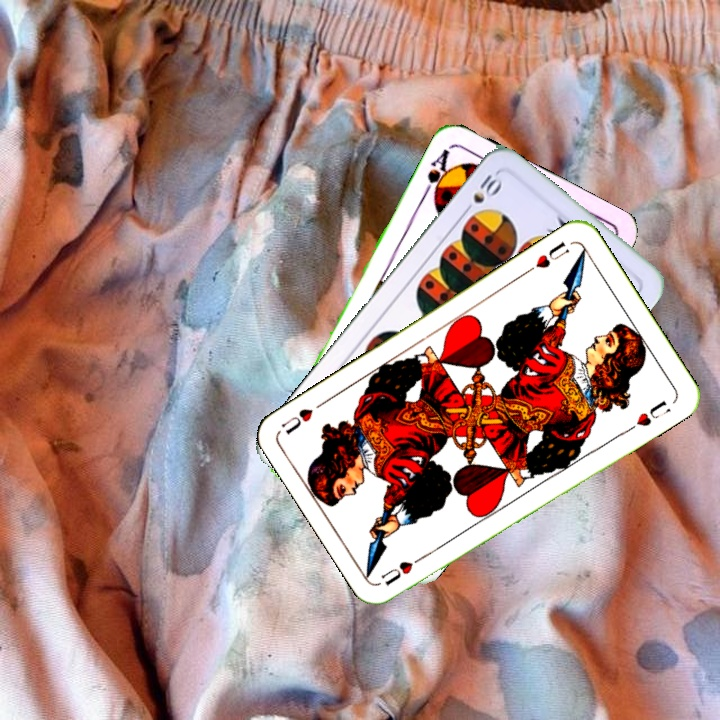HU: (377, 550, 431, 588), (522, 237, 572, 276)
S10: (458, 170, 505, 218)
SA: (419, 144, 455, 204)
